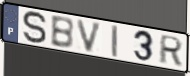3: (133, 28, 156, 63)
B: (49, 15, 75, 51)
I: (110, 23, 119, 59)
R: (157, 34, 185, 67)
S: (21, 10, 48, 46)
V: (75, 18, 104, 55)
